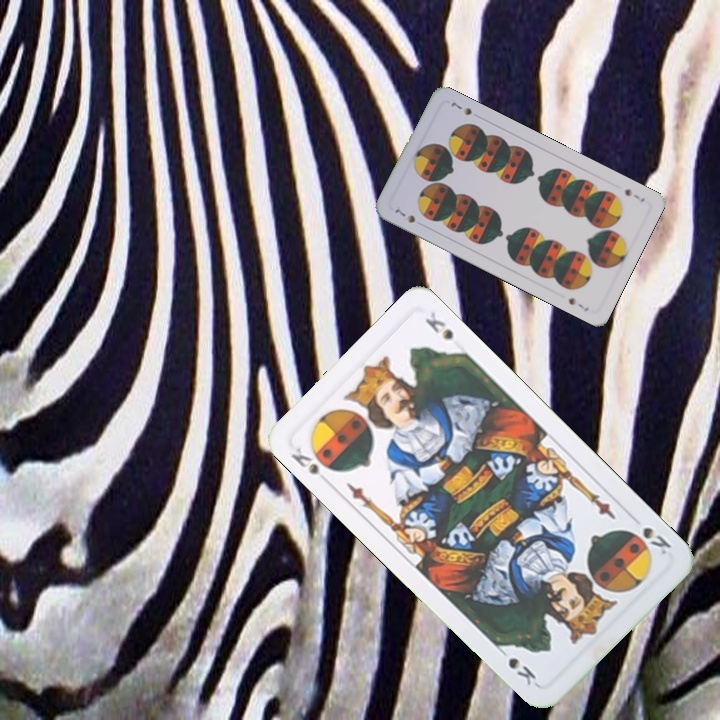S7: (390, 205, 418, 225), (620, 185, 647, 205)
SK: (287, 443, 334, 488), (638, 523, 674, 558)
